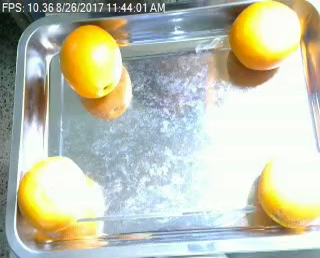Orange: (18, 154, 86, 231), (230, 1, 302, 71), (255, 152, 320, 229), (59, 23, 123, 99)
